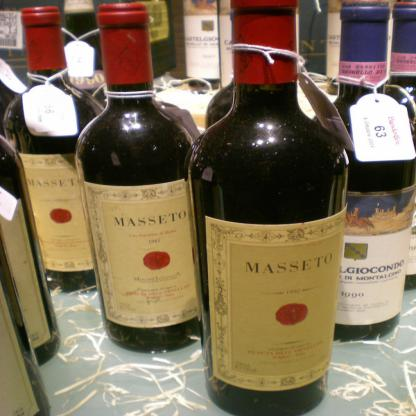drinking: (188, 0, 351, 415), (75, 3, 200, 353), (311, 0, 416, 340), (4, 7, 118, 293)
